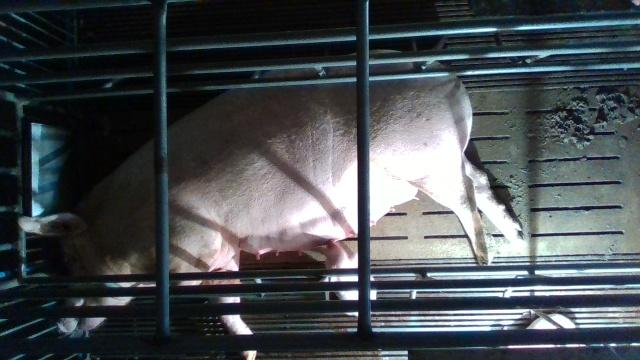piglet: (323, 241, 379, 319)
sow-sleep-lactate: (17, 49, 524, 360)
